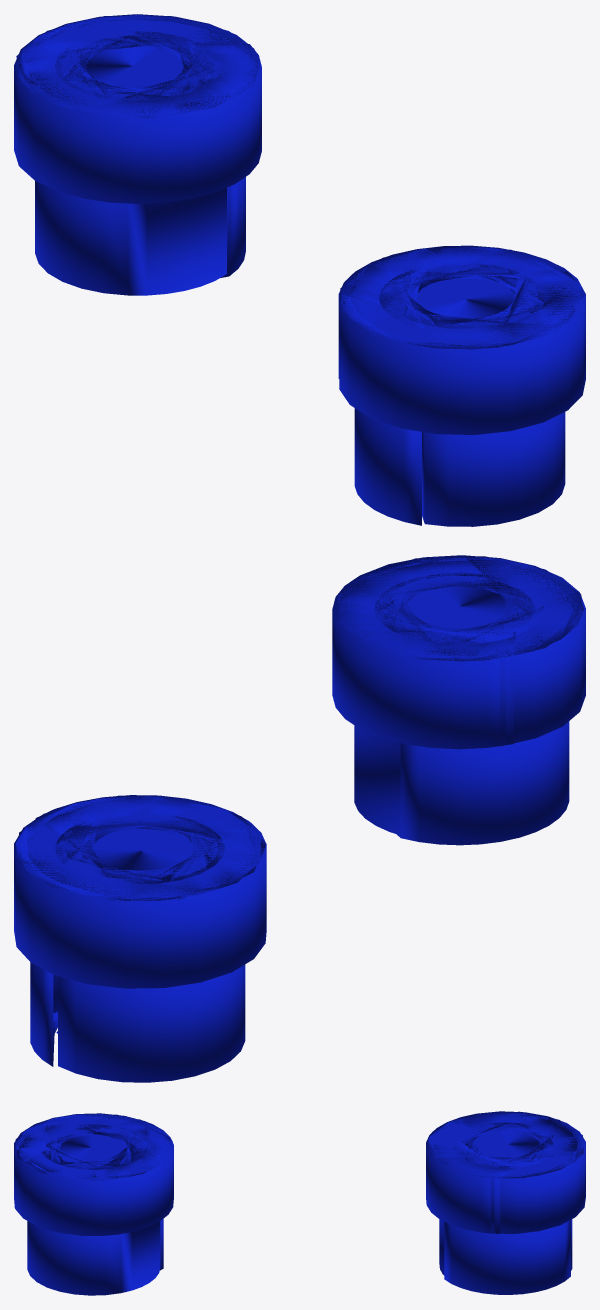
Rendered from tuyeau_element_000009.obj.
3 renders of one model, top to bottom at view 1: azimuth 30°, elevation 25°; view 2: azimuth 150°, elevation 25°; view 3: azimuth 270°, elevation 25°, orthographic. The views are drawn at different scales.
Parts seen in each view (by area): view 1: tuyeau2_Cube.017, tuyeau1_Cube.014; view 2: tuyeau2_Cube.017, tuyeau1_Cube.014; view 3: tuyeau1_Cube.014, tuyeau2_Cube.017.
Part boxes in pixels (x1,y1,x2,y2): tuyeau2_Cube.017: (338,245,585,526); tuyeau1_Cube.014: (14,14,261,295); tuyeau2_Cube.017: (332,555,585,845); tuyeau1_Cube.014: (14,795,266,1082); tuyeau1_Cube.014: (426,1111,585,1294); tuyeau2_Cube.017: (14,1113,173,1295).
Bounding box in the file's own units: 3623 × 2917 × 12567.
